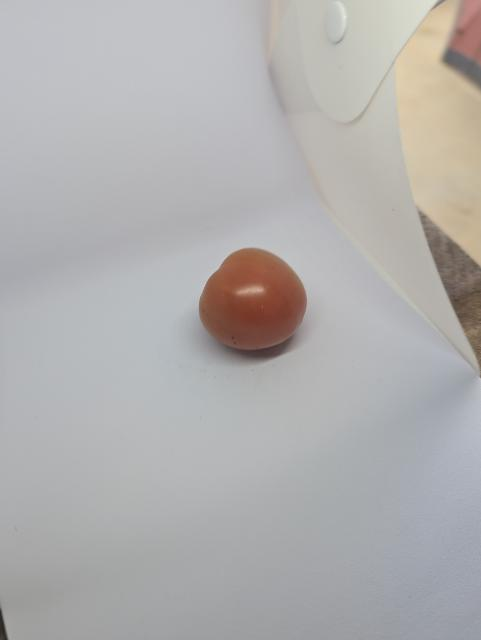red: (196, 242, 316, 360)
